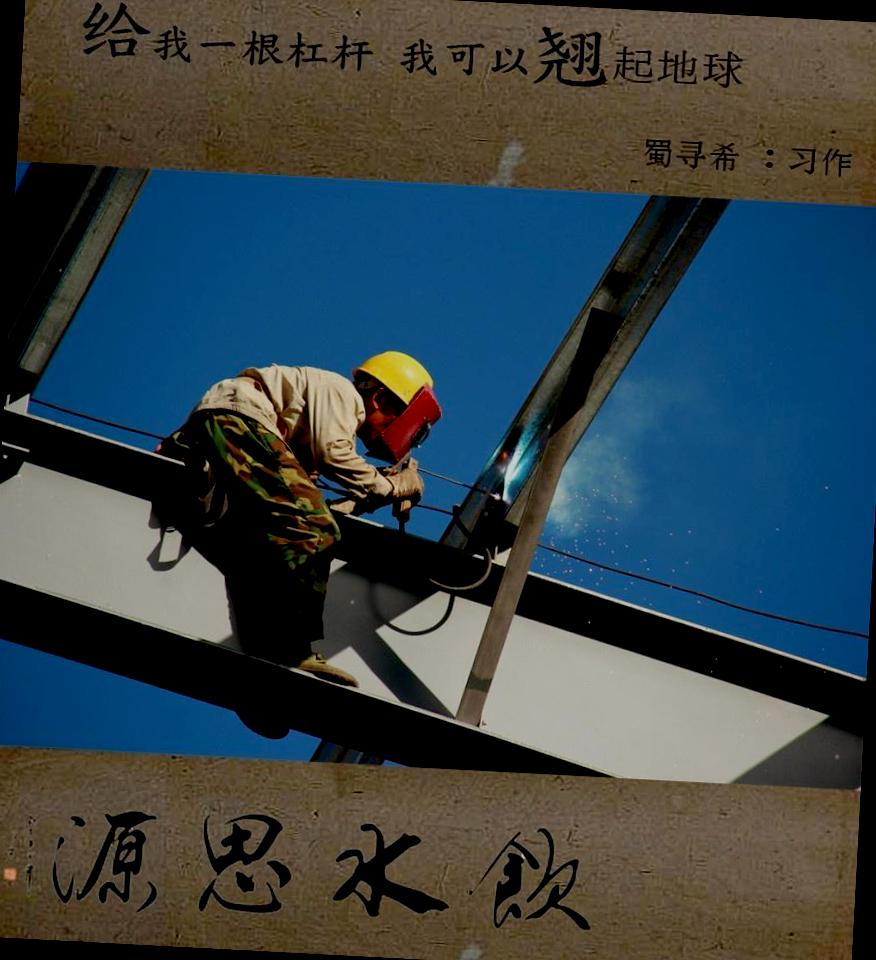helmet: (347, 342, 449, 412)
no_vest: (181, 354, 383, 489)
person: (158, 333, 459, 698)
